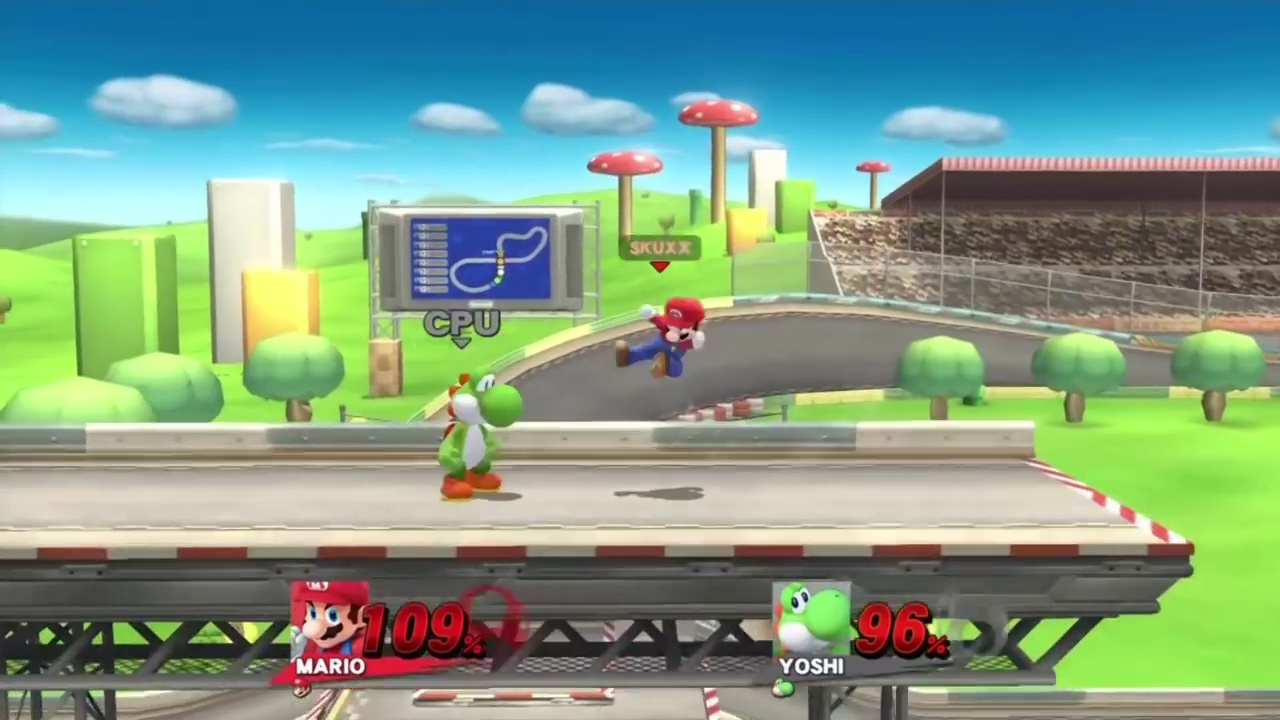Mario: (615, 297, 706, 375)
